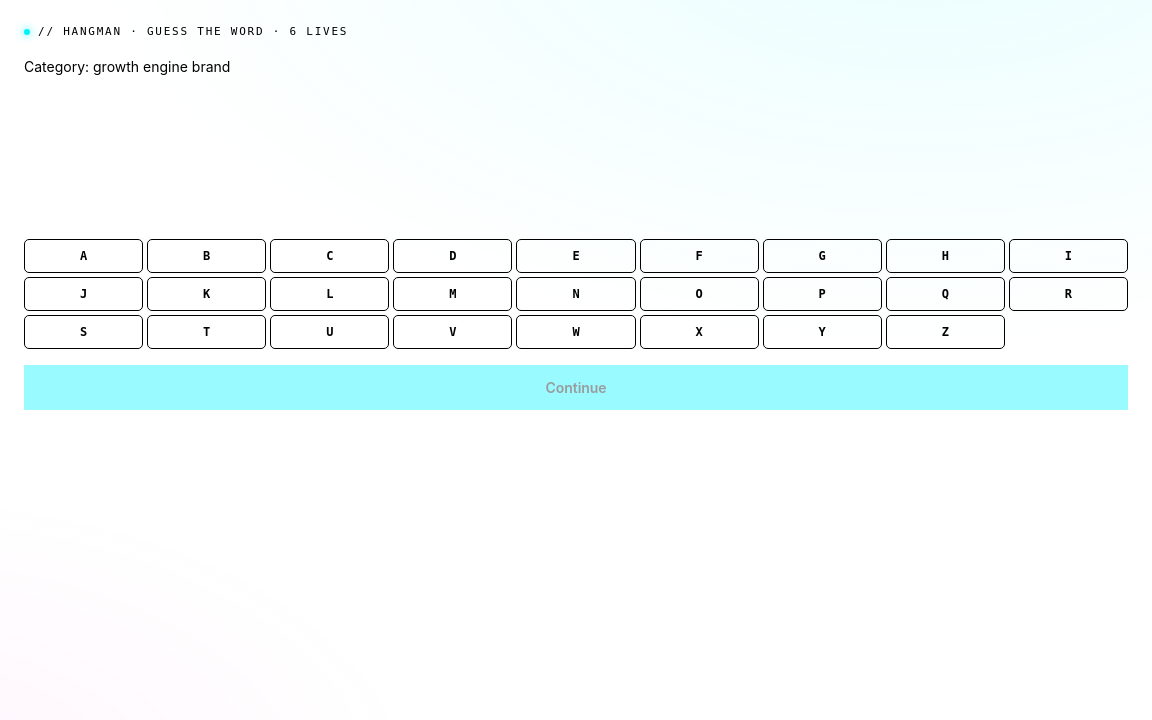
Test case: HangmanExperience › lose condition: Continue enabled after maxWrong wrong guesses
expect the button "Continue" is disabled: met, box x1=24 y1=364 x2=1128 y2=410
Click the button "A".
click(84, 256)  # box x1=24 y1=238 x2=143 y2=272
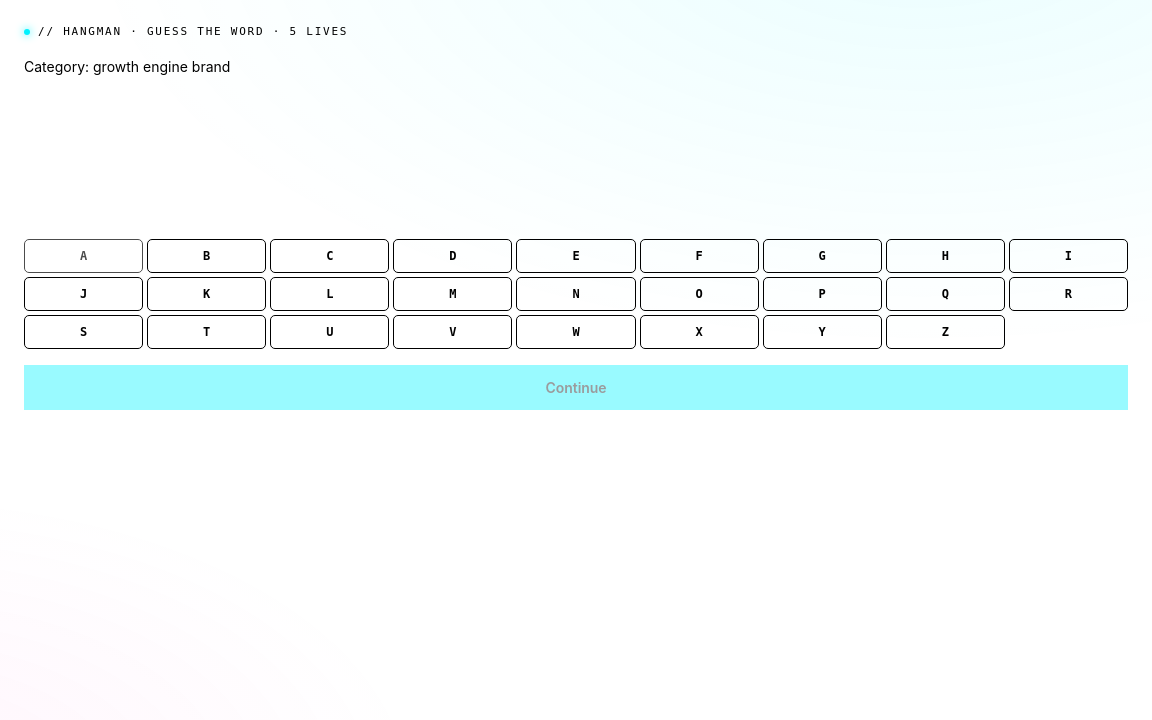
Click the button "B".
click(207, 256)  # box x1=147 y1=238 x2=266 y2=272
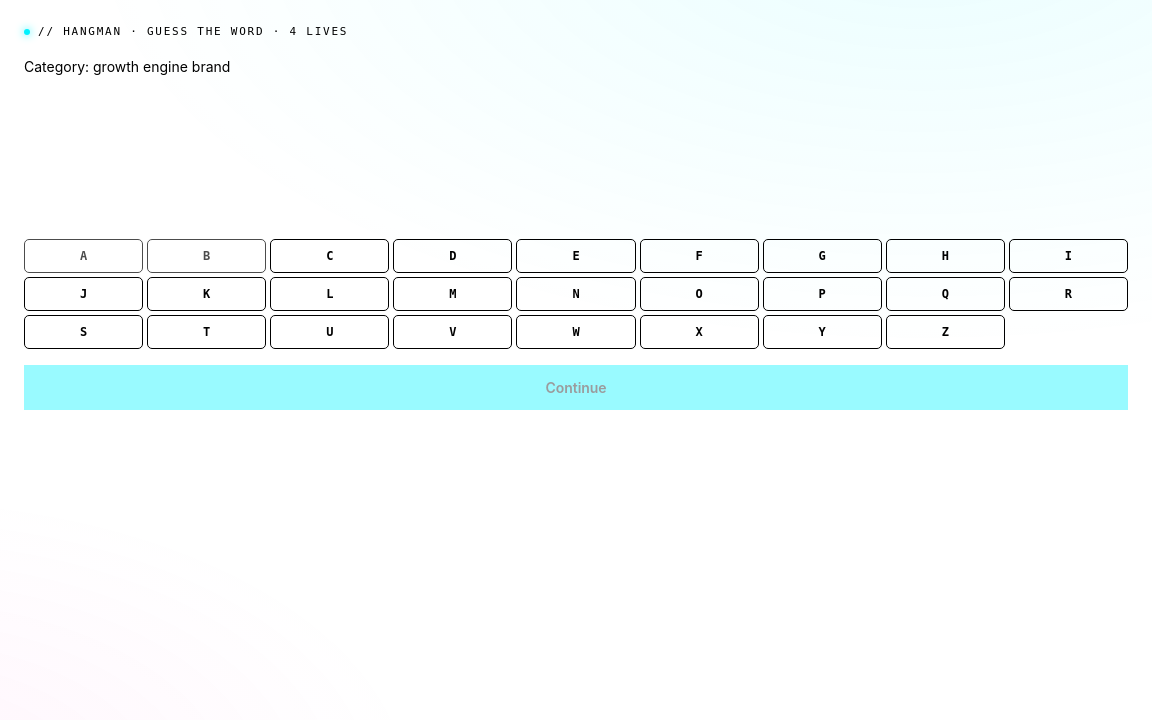
Click the button "C".
click(330, 256)  # box x1=270 y1=238 x2=389 y2=272
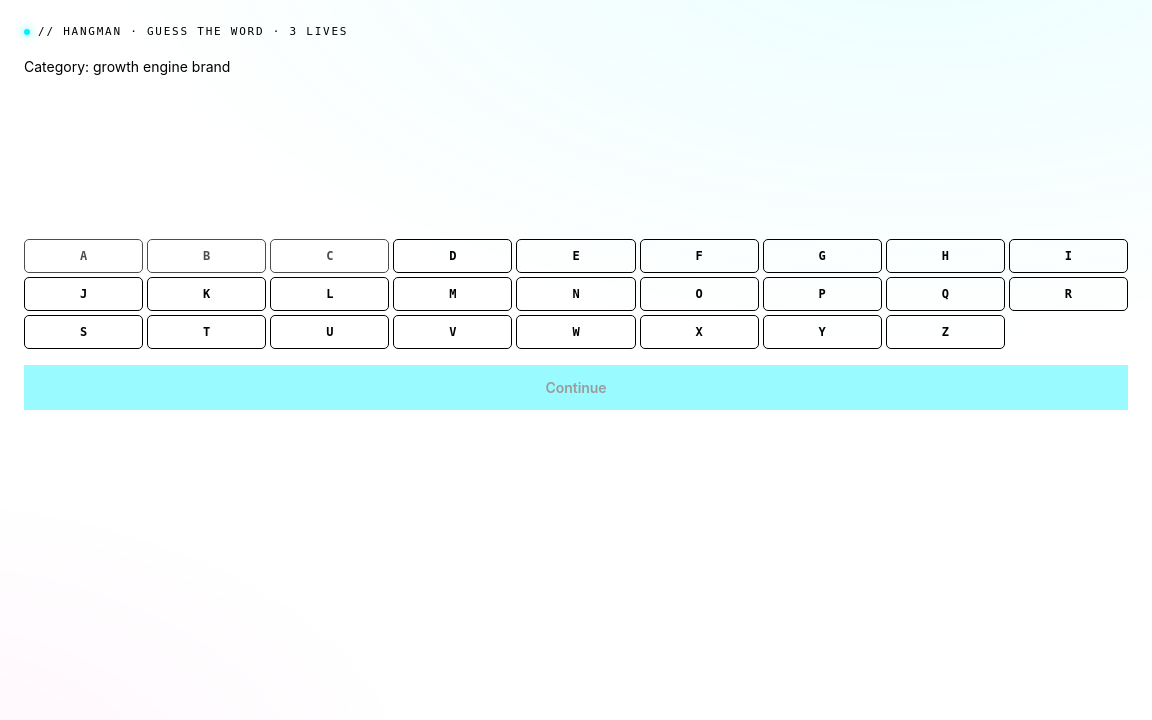
Click the button "D".
click(453, 256)  # box x1=393 y1=238 x2=512 y2=272
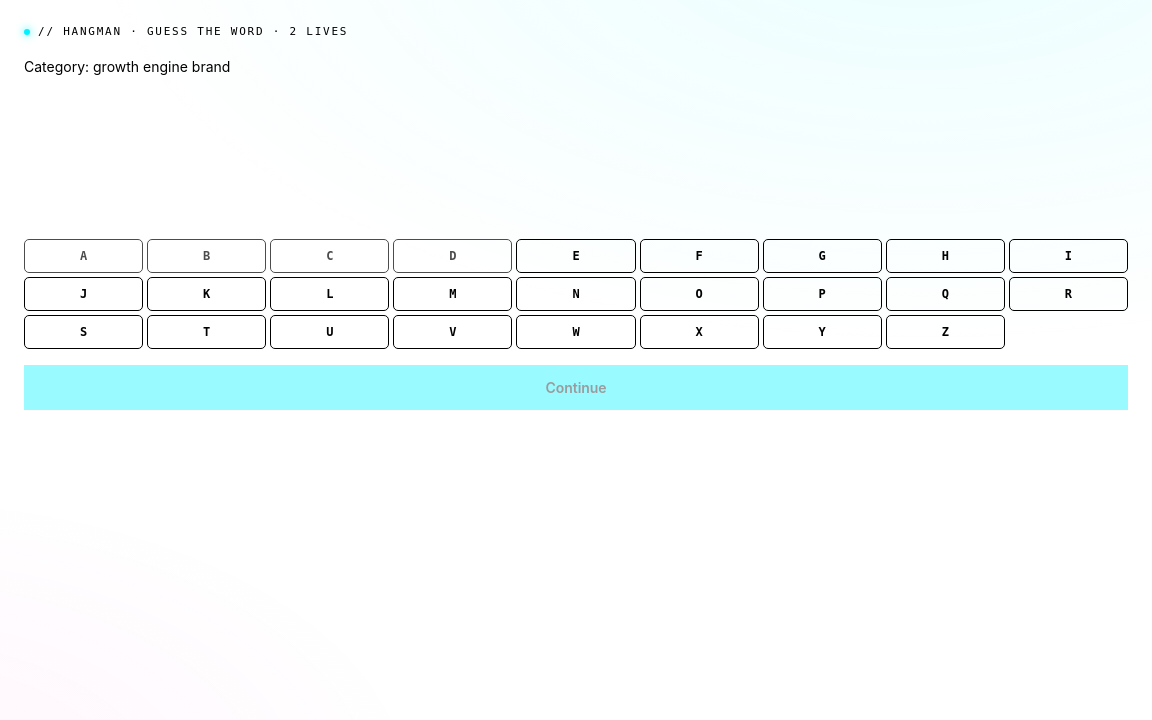
Click the button "F".
click(699, 256)  # box x1=640 y1=238 x2=759 y2=272
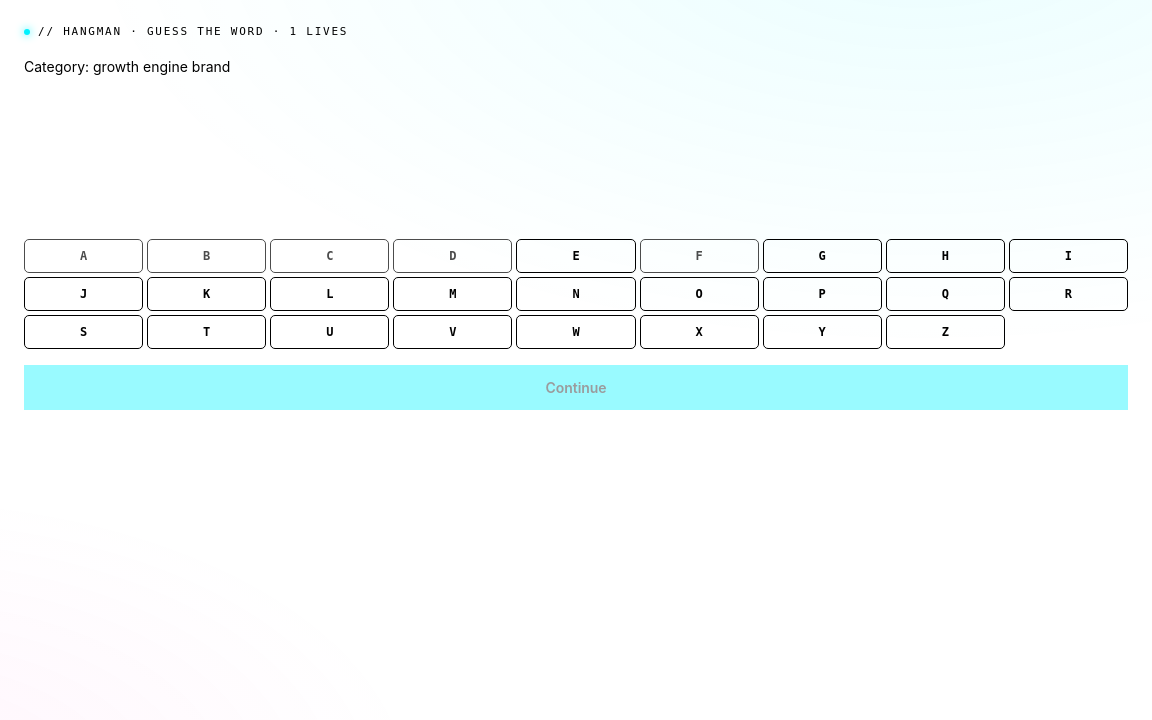
Click the button "H".
click(945, 256)  # box x1=886 y1=238 x2=1005 y2=272
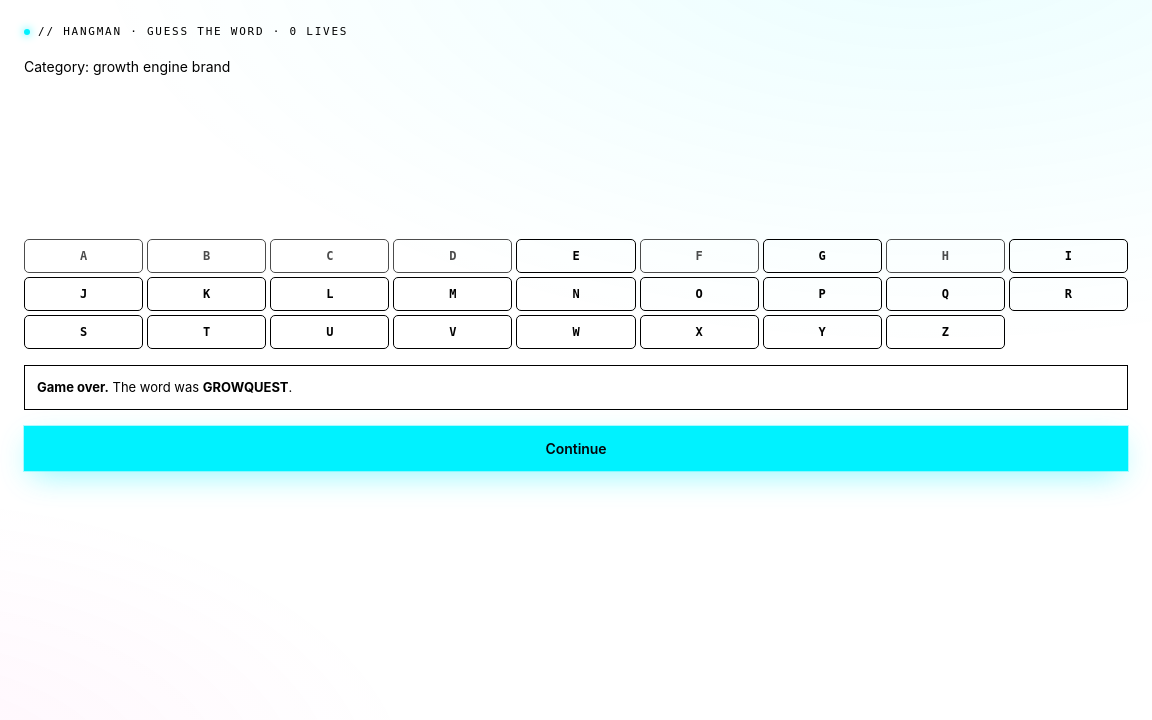
expect the text "Game over." is shown: met, box x1=37 y1=378 x2=109 y2=394
expect the button "Continue" is enabled: met, box x1=24 y1=426 x2=1128 y2=471
